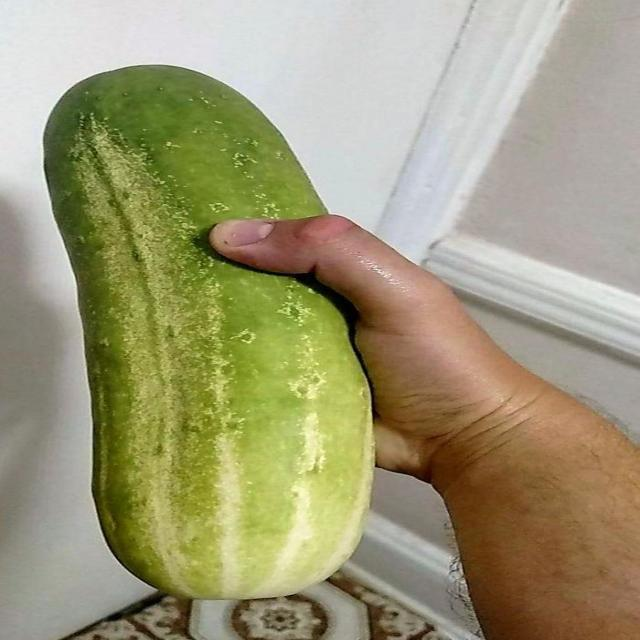Cucumber: (36, 64, 375, 596)
